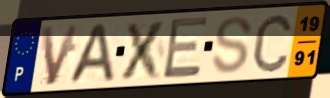A: (65, 20, 117, 86)
C: (250, 11, 295, 75)
E: (161, 14, 211, 82)
S: (210, 14, 255, 76)
V: (39, 22, 82, 88)
X: (117, 18, 171, 81)
